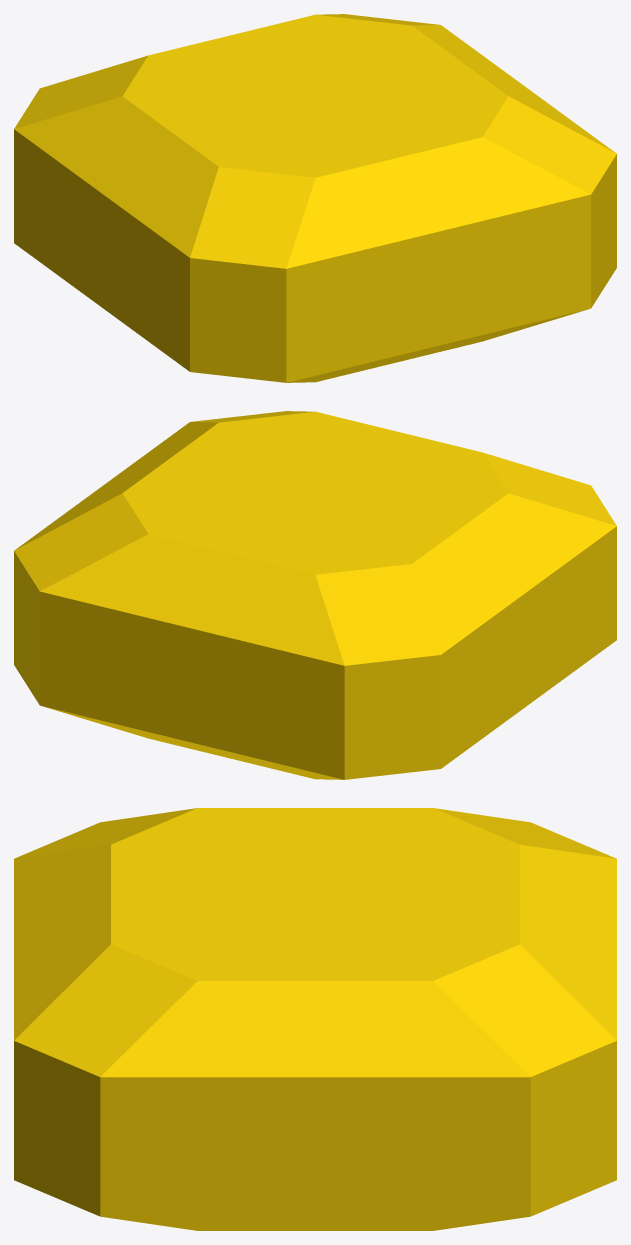
3 views of the same model, one above another, from view 1: azimuth 30°, elevation 25°; view 2: azimuth 150°, elevation 25°; view 3: azimuth 270°, elevation 25° (orthographic). The views are drawn at different scales.
Parts seen in each view (by area): view 1: Cube.024; view 2: Cube.024; view 3: Cube.024.
Boxes of the visible parts, x1,y1,x2,y2 form: Cube.024: [14, 14, 616, 382]; Cube.024: [14, 411, 616, 779]; Cube.024: [14, 808, 616, 1230].
Bounding box in the file's own units: 50 × 22.88 × 50.
Materials: 1 (1 with a texture image).
